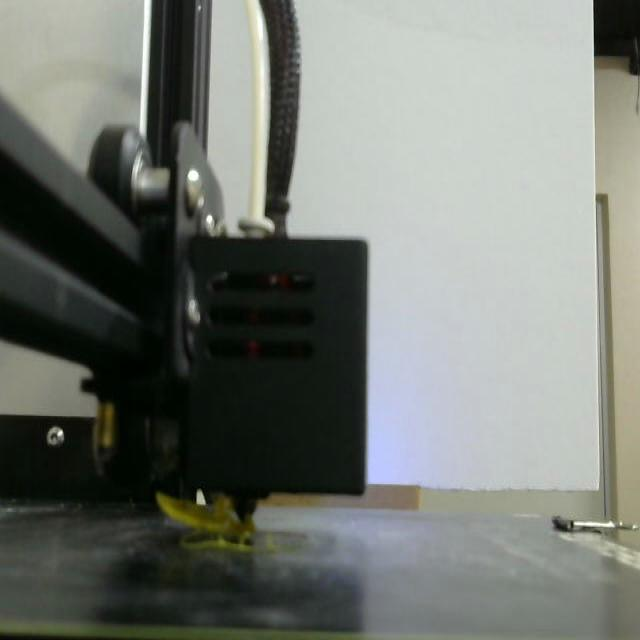spaghetti: (156, 492, 255, 551)
